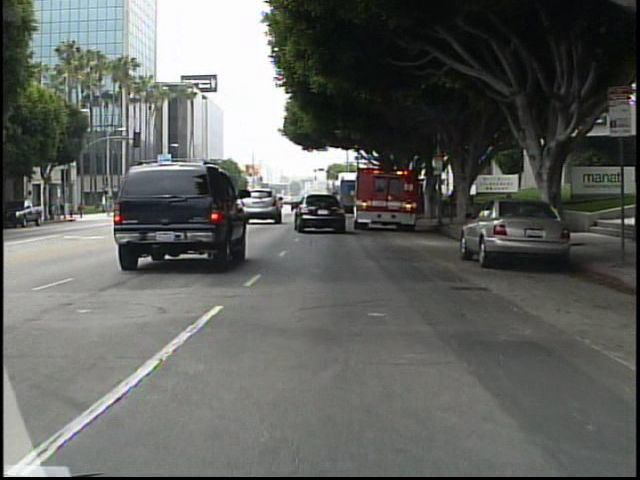person: (447, 187, 460, 222), (76, 198, 89, 222), (67, 198, 78, 222)
